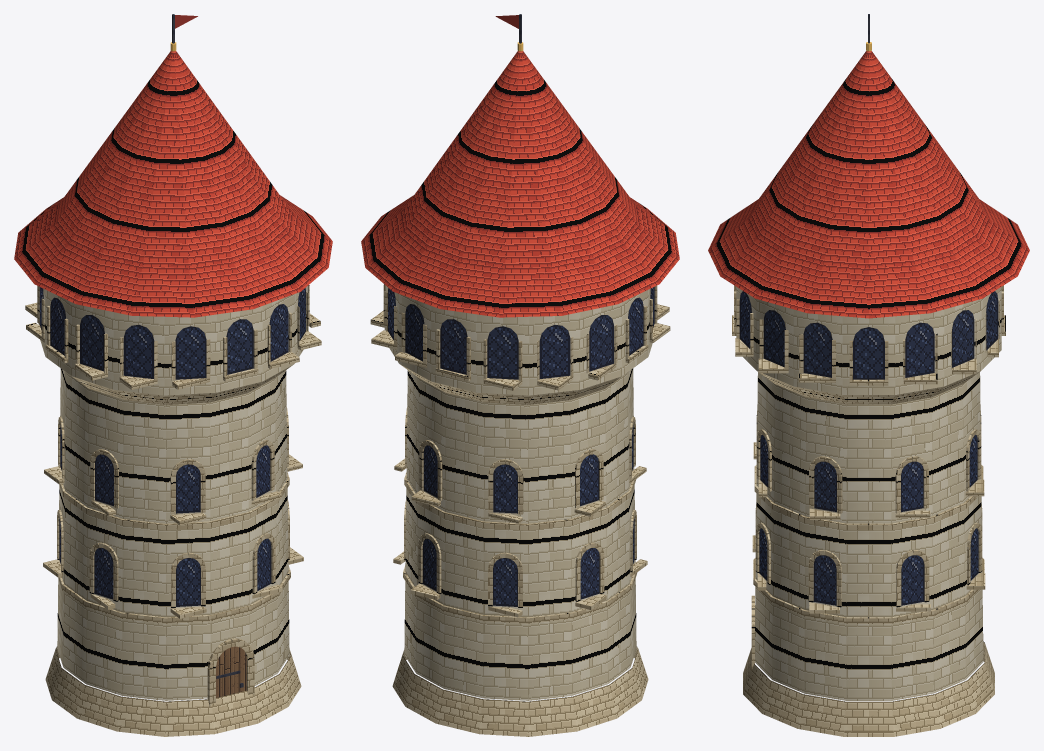
File: med_round_tower_1.glb
3 views of the same model, side by side, from view 1: azimuth 30°, elevation 25°; view 2: azimuth 150°, elevation 25°; view 3: azimuth 270°, elevation 25° (orthographic).
Parts seen in each view (by area): view 1: med_round_tower_2; view 2: med_round_tower_2; view 3: med_round_tower_2.
Part boxes in pixels (box(x1,y1,x2,y2)): med_round_tower_2: box(14, 14, 332, 736); med_round_tower_2: box(361, 14, 679, 736); med_round_tower_2: box(708, 14, 1029, 736).
Bounding box in the file's own units: 9.4 × 21.55 × 9.4.
8 materials, 8 textured.
